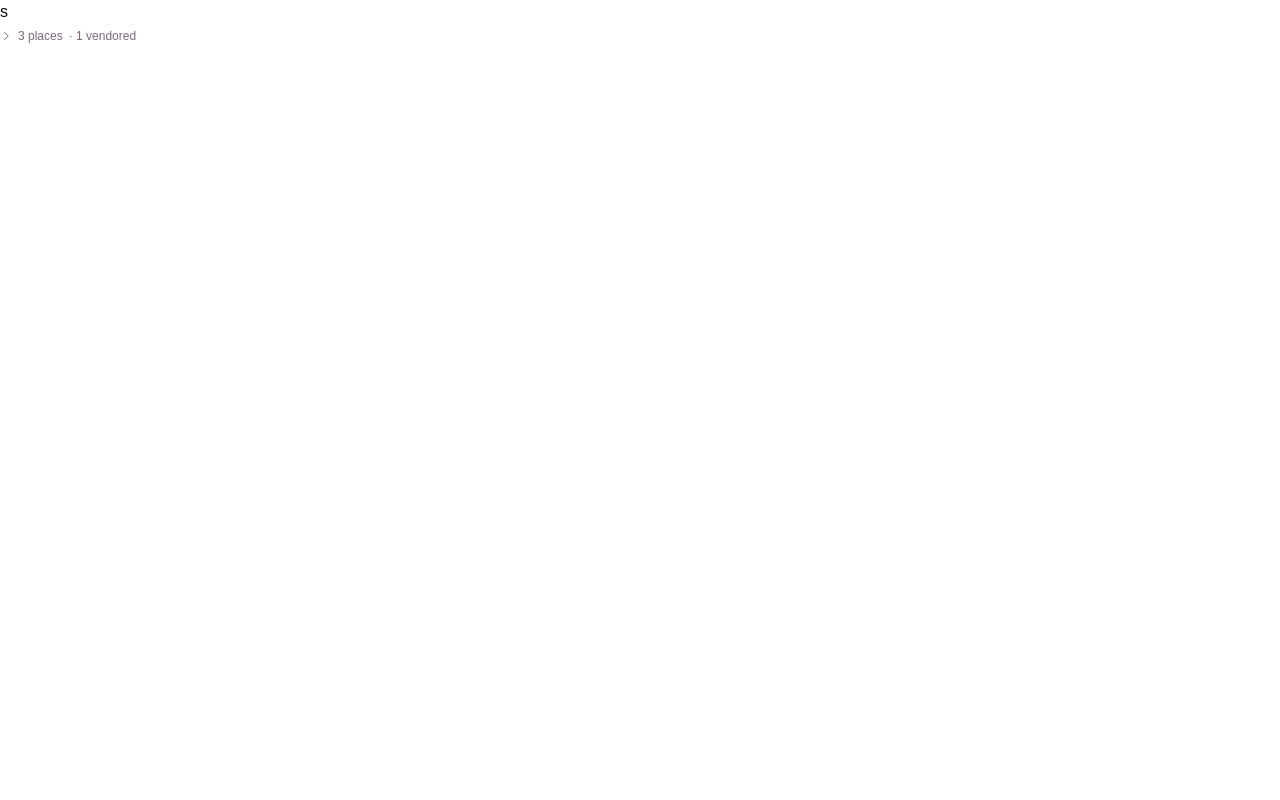
it: a row opens the code reader: path in the title, the line marked, highlighted, linked to the commit
The width and height of the screenshot is (1280, 800).
Step 1. Click the button "3 places · 1 vendored" → (68, 36), box [0, 28, 136, 44]
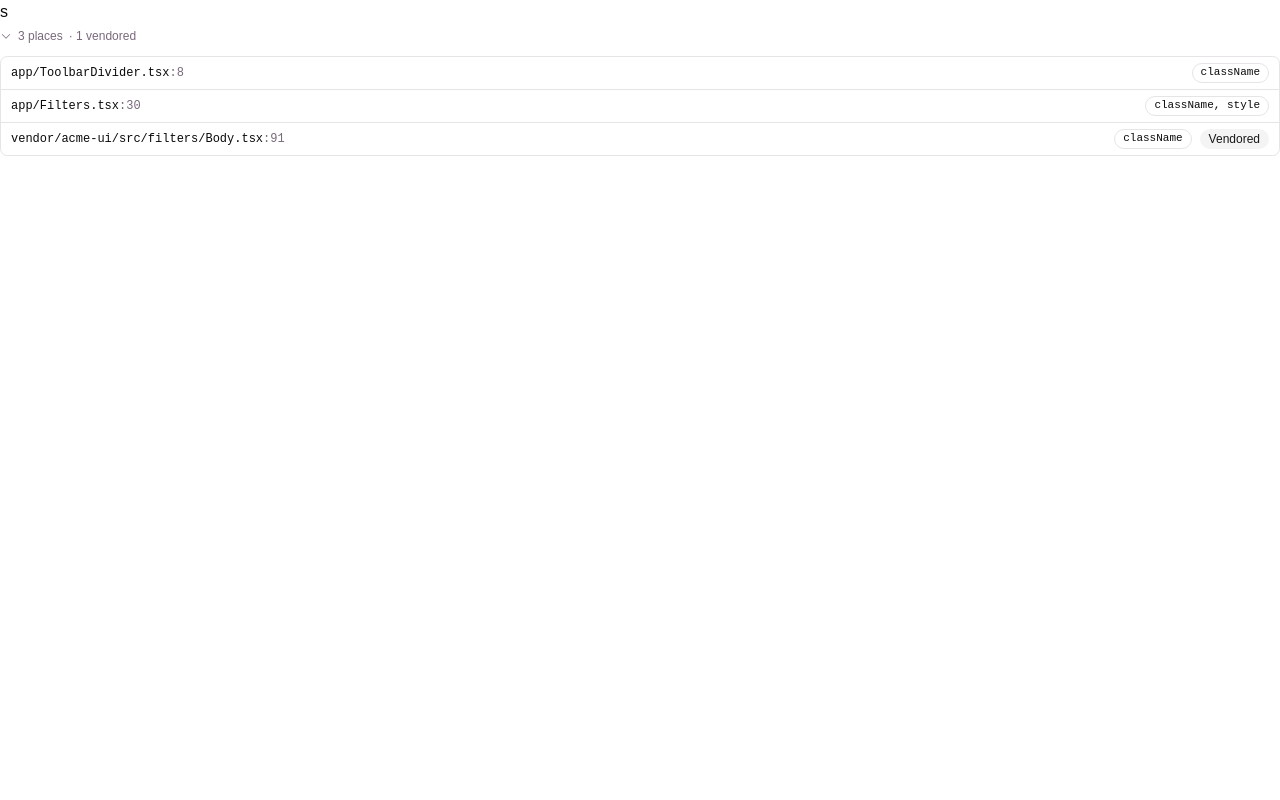
Step 2. Click the button "app/ToolbarDivider.tsx:8 className" → (90, 73), box [1, 57, 1279, 89]
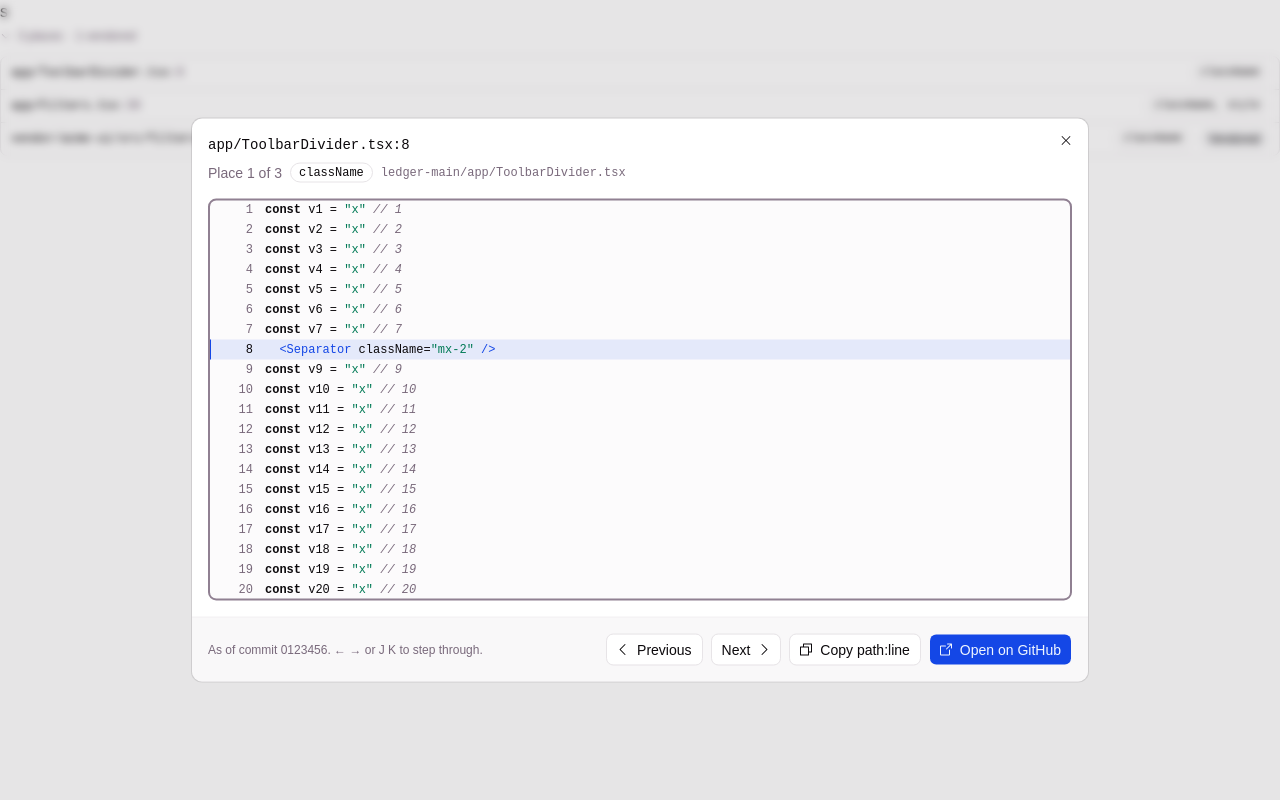
expect the element showing "app/ToolbarDivider.tsx:8" is shown: met, box [11, 66, 184, 80]
expect the dialog shows "Place 1 of 3": met, box [192, 118, 1088, 682]
expect the text "<Separator" is shown: met, box [279, 342, 351, 356]
